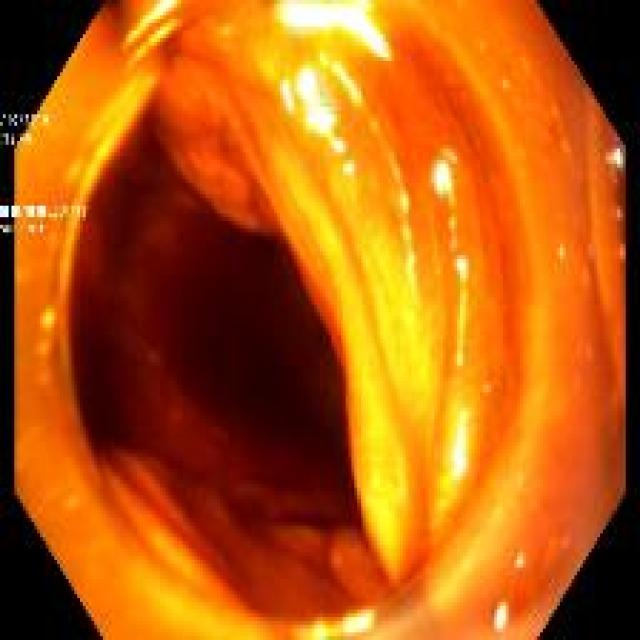color misalignment: (2, 201, 91, 241), (1, 114, 50, 147)
contrast: (174, 229, 339, 453), (67, 295, 152, 455)
specularity: (277, 2, 393, 60), (294, 69, 345, 154), (128, 2, 177, 43), (450, 414, 469, 478), (331, 66, 360, 103), (341, 615, 373, 638), (432, 164, 453, 198), (281, 81, 295, 115), (408, 255, 418, 298), (494, 605, 507, 632), (457, 261, 468, 282), (314, 625, 327, 640), (616, 148, 623, 169), (401, 192, 408, 212), (344, 164, 355, 172)
